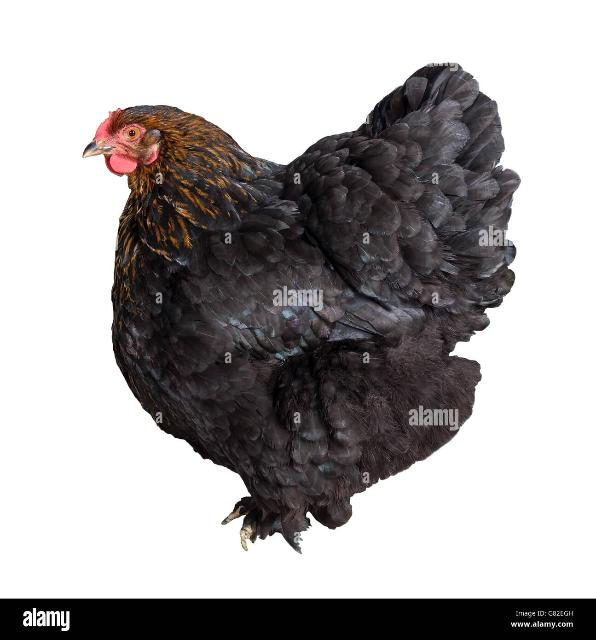Chicken: (79, 60, 521, 554)
